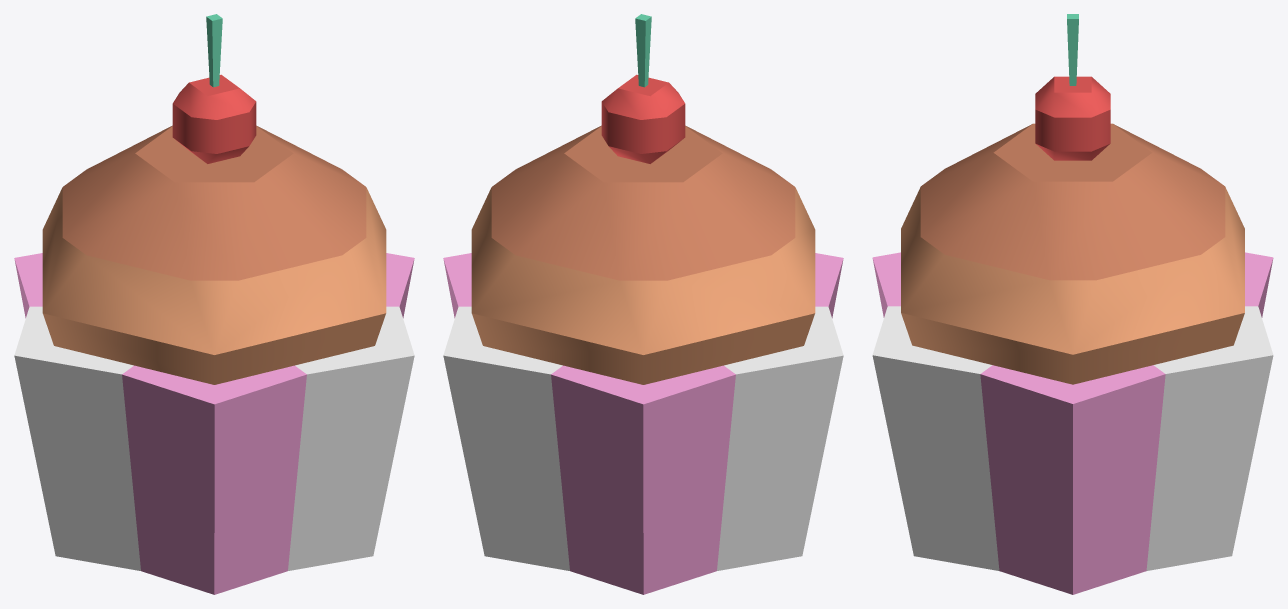
Rendered from cupcake.fbx.
The picture shows the model from 3 angles, left to right: view 1: azimuth 30°, elevation 25°; view 2: azimuth 150°, elevation 25°; view 3: azimuth 270°, elevation 25°; orthographic projection.
Visible parts, largest first — view 1: cupcake, cake, cherry; view 2: cupcake, cake, cherry; view 3: cupcake, cake, cherry.
Boxes of the visible parts, x1,y1,x2,y2 form: cupcake: (14,253,414,594); cake: (42,125,386,384); cherry: (172,14,256,163); cupcake: (443,253,843,594); cake: (471,125,815,384); cherry: (601,14,685,163); cupcake: (872,252,1273,594); cake: (901,123,1244,384); cherry: (1035,14,1110,160).
Bounding box in the file's own units: 3.55 × 4.24 × 3.08.
